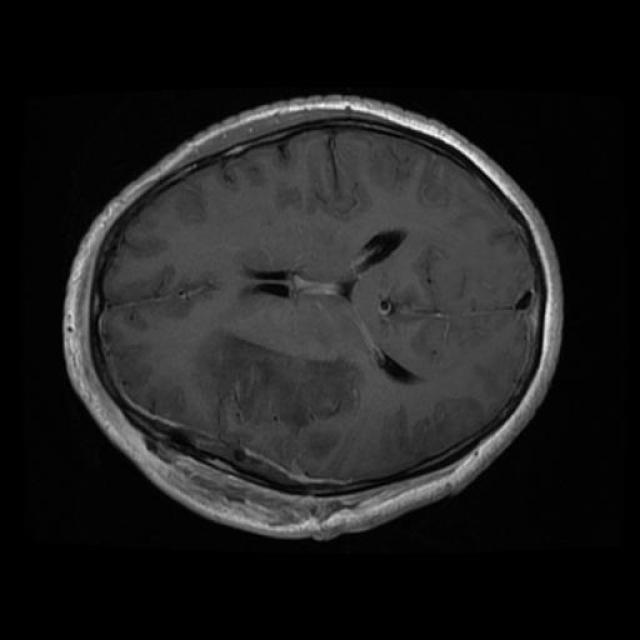Glioma: (173, 335, 362, 493)
